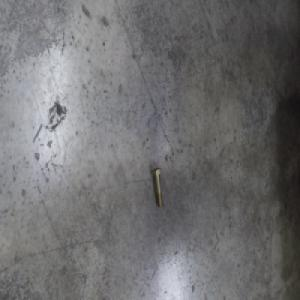Bolt: (151, 166, 164, 208)
